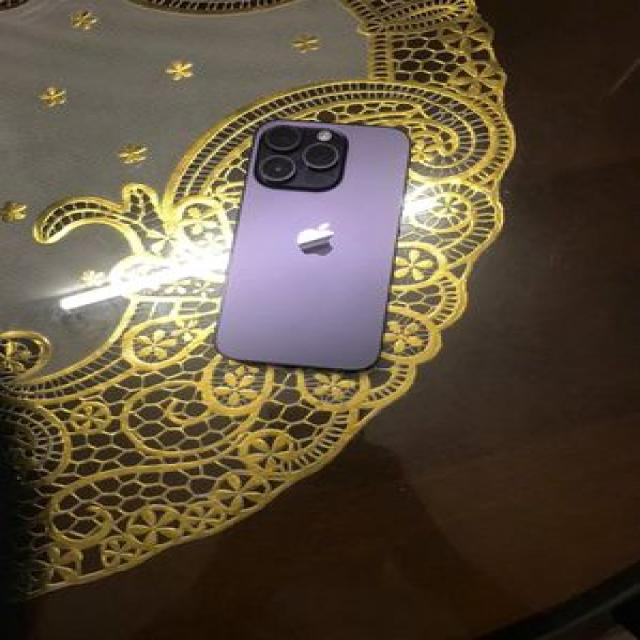gen_14: (193, 106, 416, 382)
